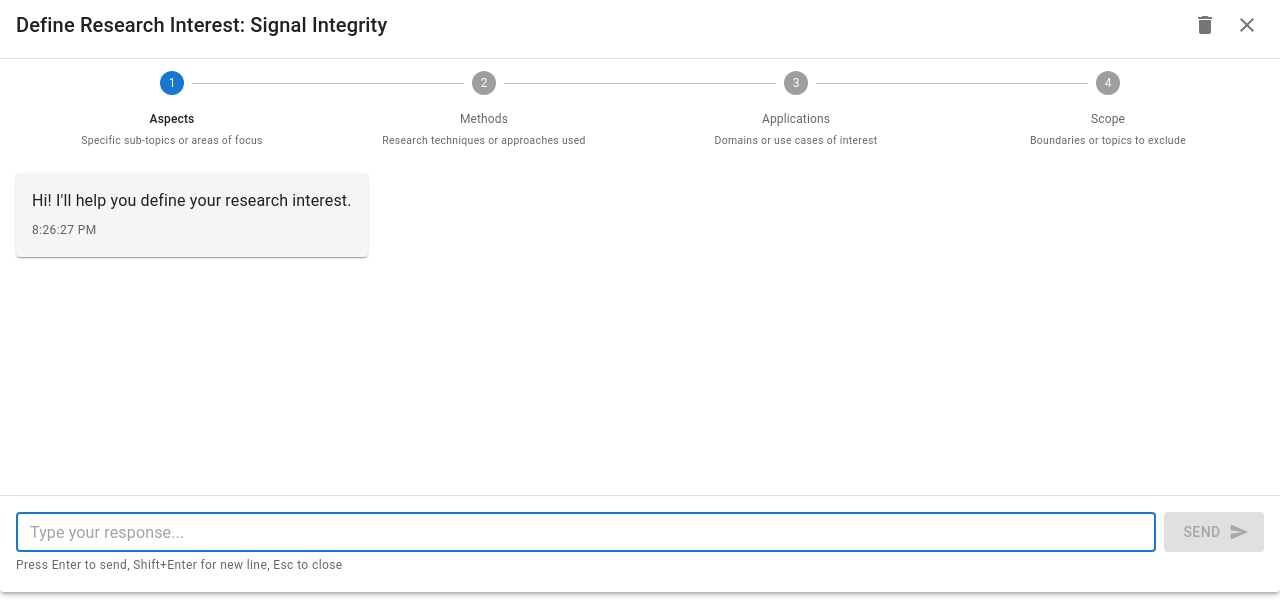
it: ChatbotUI Accessibility › ARIA Labels and Screen Reader Support (Task 3.2) › should label each message with role and timestamp
Expected: the element named "Chatbot message at" is shown, [16,173,368,257]
Step 1. Type "Test message" into the text box with placeholder "Type your response..." → coordinates (586, 532), box [30,521,1142,544]
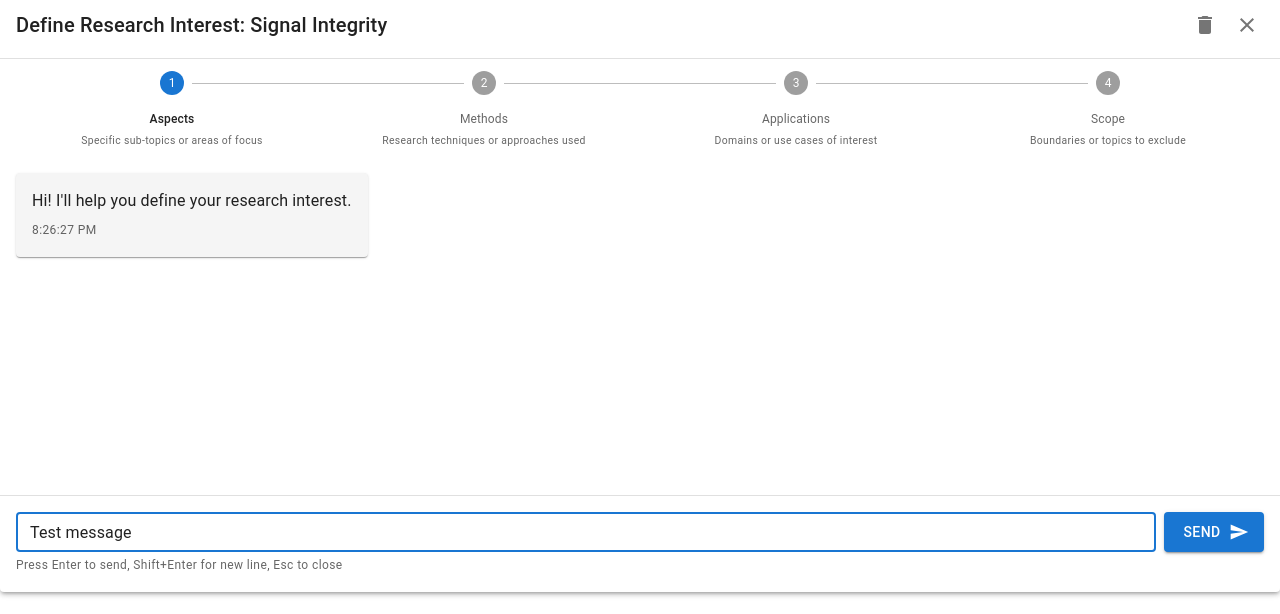
Step 2. Click the button with aria-label "Send message to chatbot" → coordinates (1214, 532), box [1164,512,1264,552]
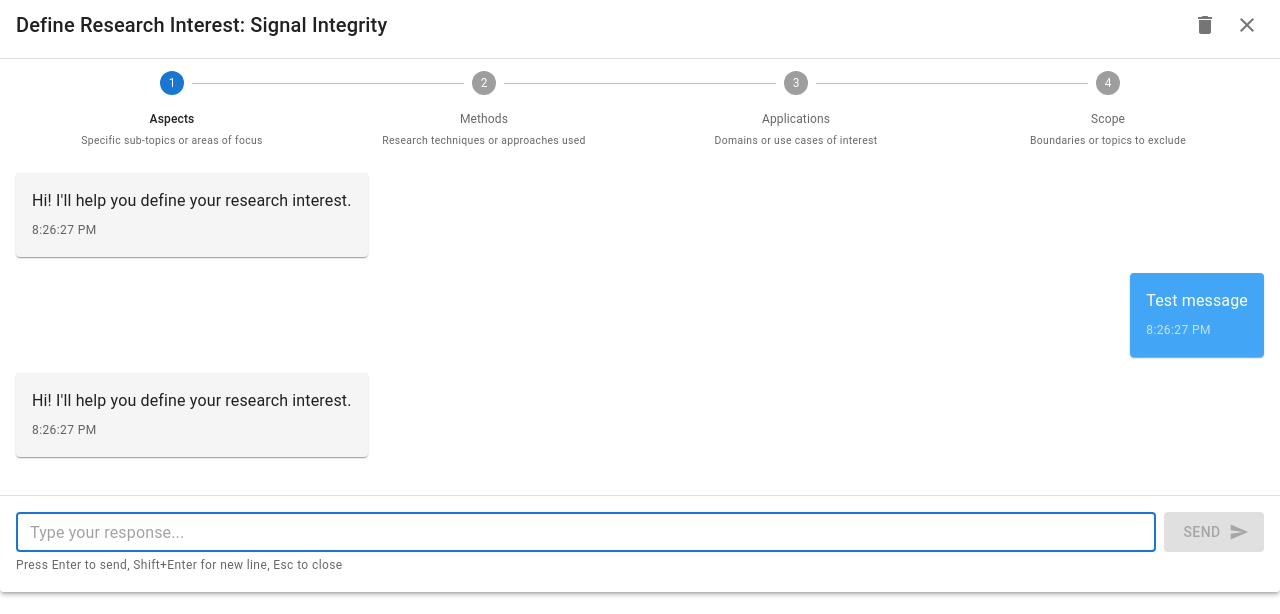
Now the element named "Your message at" is shown, box [1130,273,1264,357]
